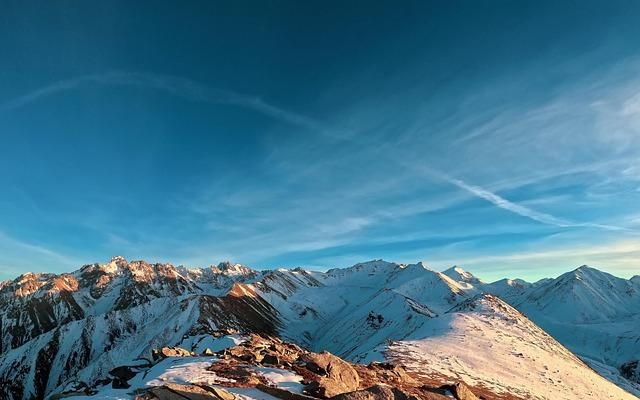Non_Gorille: (64, 115, 535, 399)
